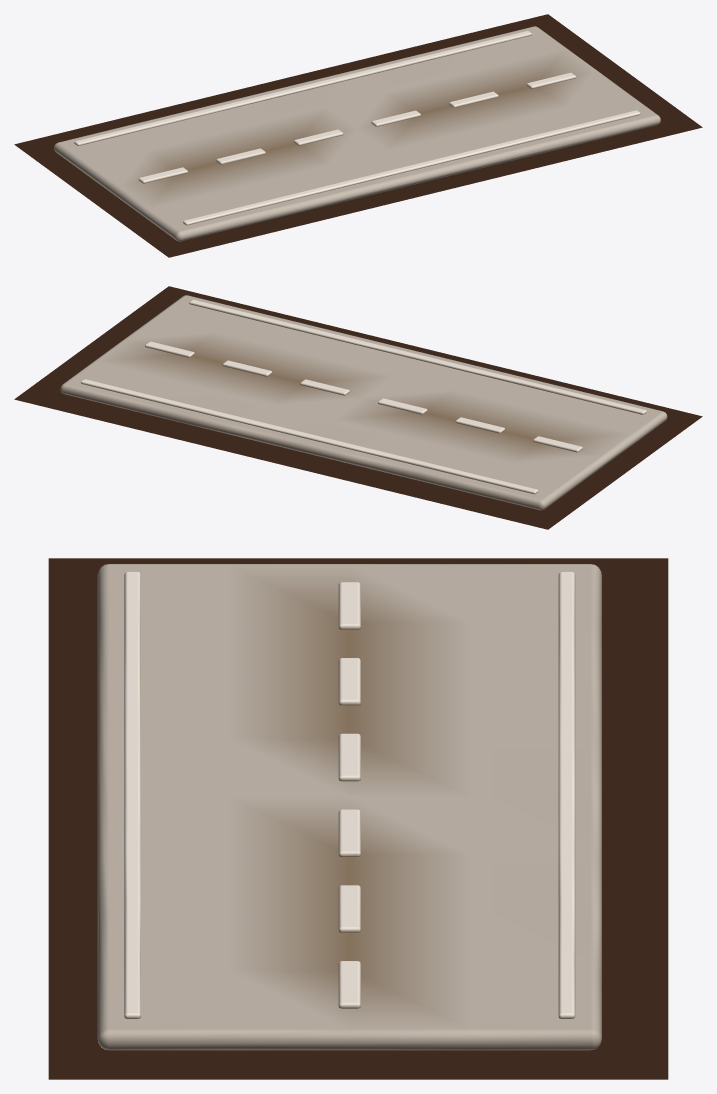
File: runway_straight.glb
The picture shows the model from 3 angles, top to bottom: view 1: azimuth 30°, elevation 25°; view 2: azimuth 150°, elevation 25°; view 3: azimuth 270°, elevation 25°; orthographic projection. The views are drawn at different scales.
Parts seen in each view (by area): view 1: slab, baked_shadow, edge1, edge-1; view 2: slab, baked_shadow, edge1, edge-1; view 3: slab, baked_shadow, edge1, edge-1, dash2, dash1, dash5, dash0, dash4, dash3.
Boxes of the visible parts, x1,y1,x2,y2 form: slab: [54, 26, 660, 241]; baked_shadow: [14, 14, 702, 257]; edge1: [74, 31, 531, 145]; edge-1: [183, 110, 640, 225]; slab: [60, 295, 667, 510]; baked_shadow: [14, 286, 702, 529]; edge1: [80, 379, 538, 494]; edge-1: [189, 299, 646, 414]; slab: [97, 564, 601, 1050]; baked_shadow: [48, 558, 668, 1079]; edge1: [558, 571, 575, 1018]; edge-1: [124, 571, 140, 1018]; dash2: [338, 733, 360, 781]; dash1: [338, 658, 360, 705]; dash5: [338, 961, 360, 1008]; dash0: [338, 582, 360, 629]; dash4: [338, 885, 360, 932]; dash3: [338, 809, 360, 856].
Size of the model in its own units: 8.81 by 0.195 by 4.42.
3 materials, 1 textured.
